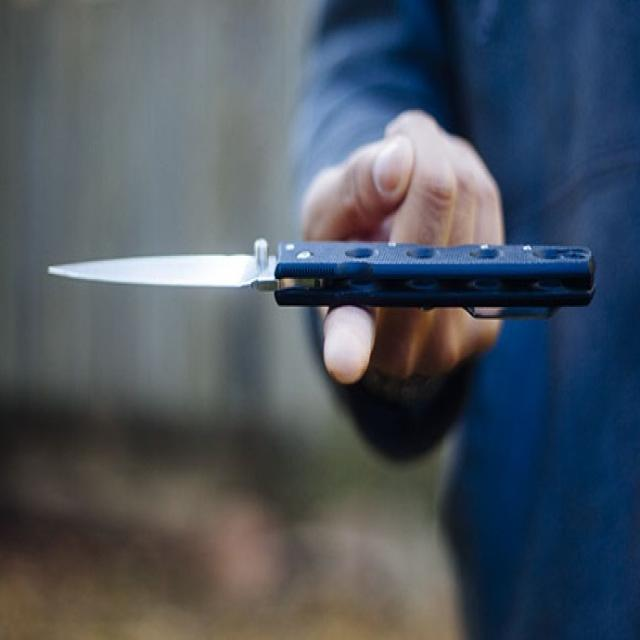knife: (42, 223, 602, 337)
